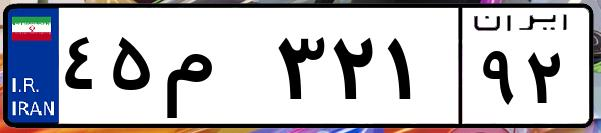1: (385, 28, 445, 110)
2: (330, 28, 385, 110), (525, 38, 570, 115)
3: (270, 28, 330, 110)
4: (57, 26, 110, 100)
5: (110, 28, 158, 98)
9: (475, 38, 525, 113)
م: (158, 20, 270, 120)
